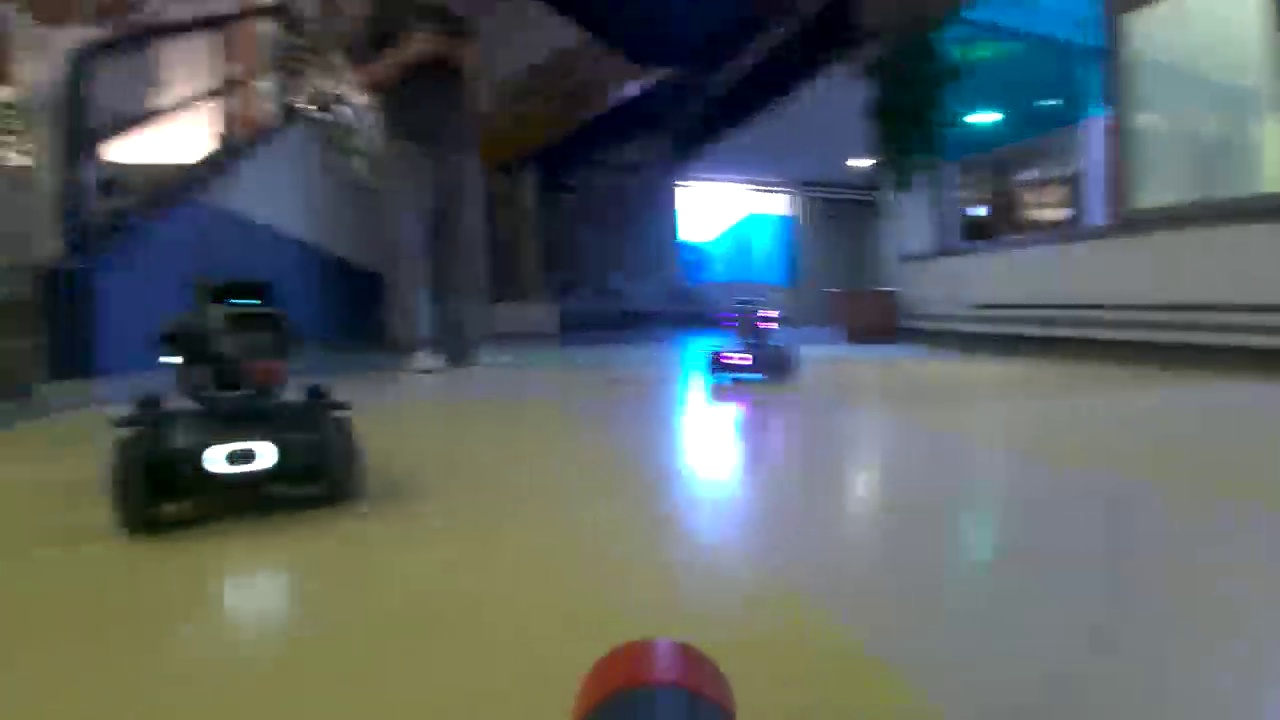robot: (112, 277, 357, 532), (706, 302, 792, 384)
